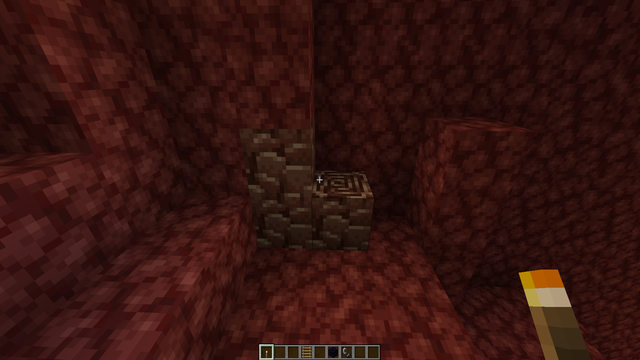debris: (238, 124, 375, 253)
